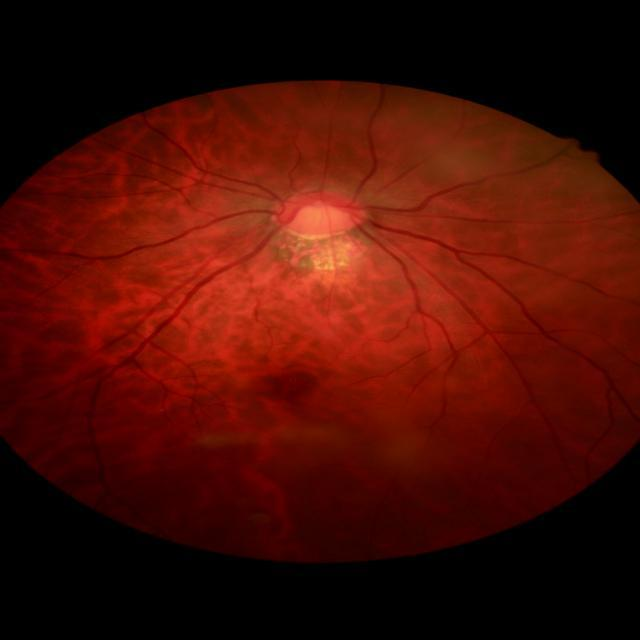cup: (290, 200, 352, 228)
disk: (273, 190, 366, 236)
